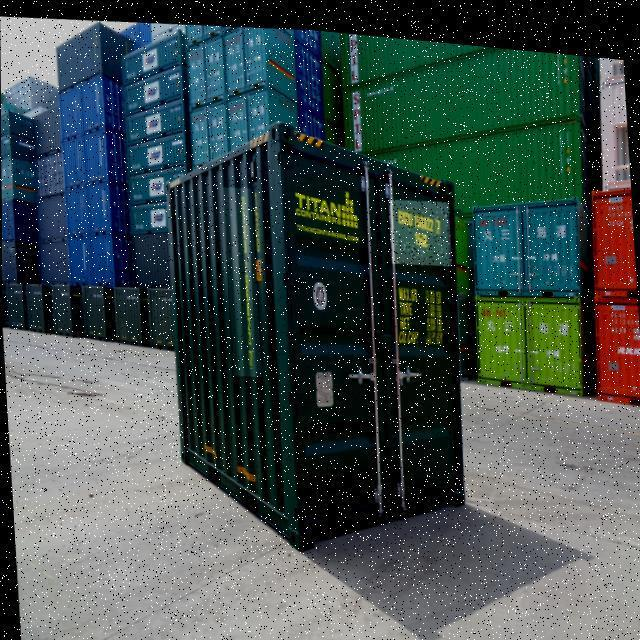container_number_h: (388, 188, 452, 260)
container_number_v: (222, 181, 262, 373)
